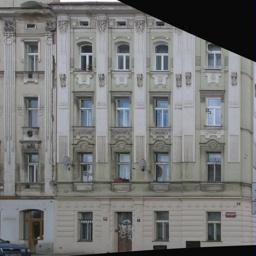building: (0, 0, 243, 245)
